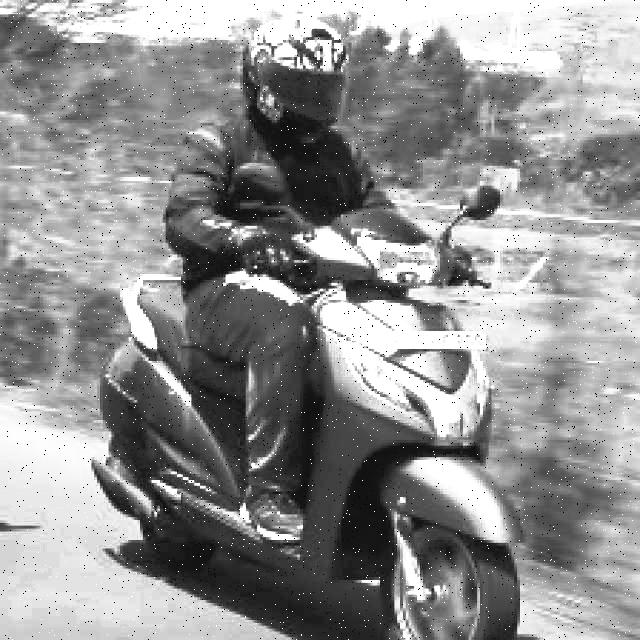Bike: (70, 200, 522, 640)
